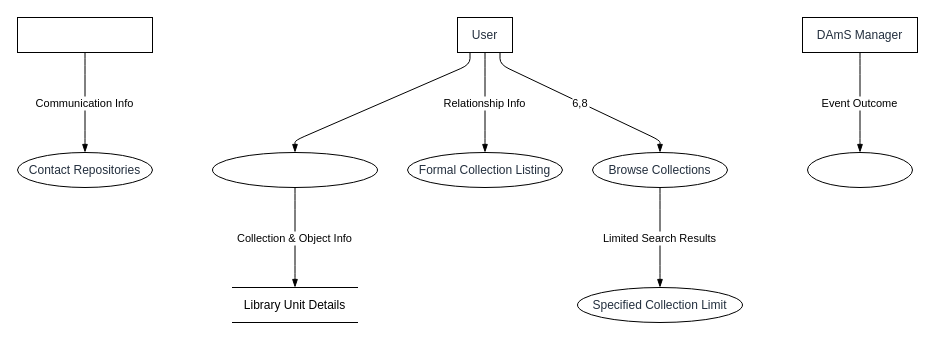
Image size: 935x340. Some labels were removed from this diagram. Here are the shapes that lost their labels. From the top down, the centre of each, then its label:
the point at 84,34: DAMS Repositories
the point at 295,170: List Collections & Objects
the point at 859,170: Monitor Events
